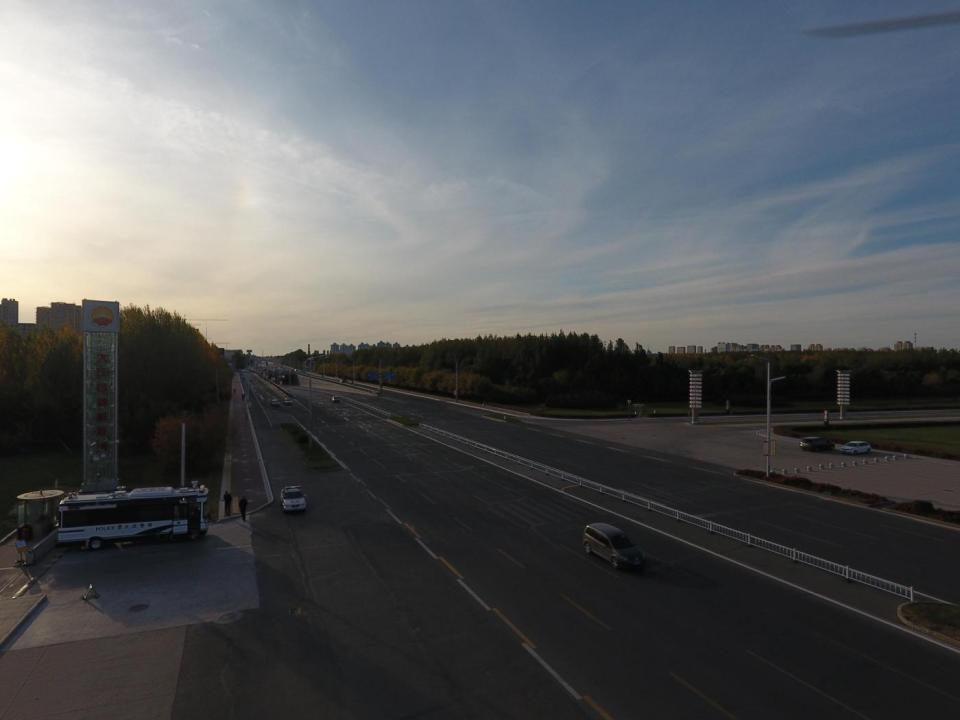bus: (57, 480, 210, 552)
car: (280, 485, 307, 512), (799, 436, 836, 452), (839, 440, 872, 456), (270, 398, 281, 406), (282, 397, 293, 405), (331, 396, 340, 402), (339, 379, 345, 384)
van: (581, 522, 646, 570)
